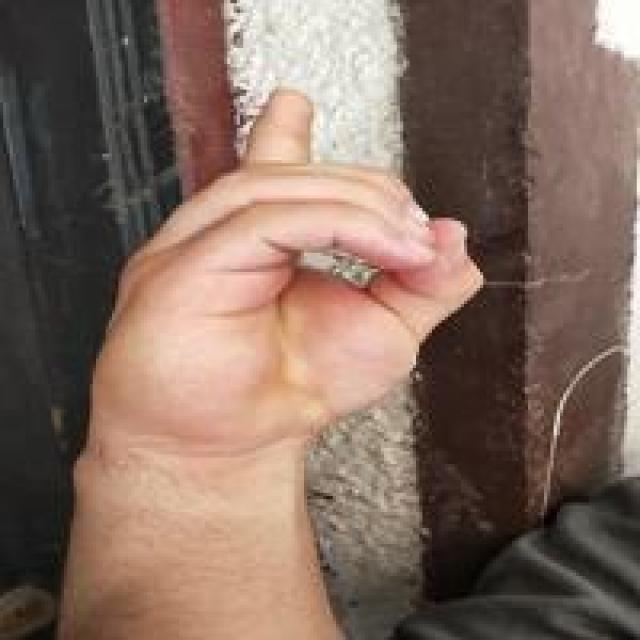D: (74, 70, 492, 468)
